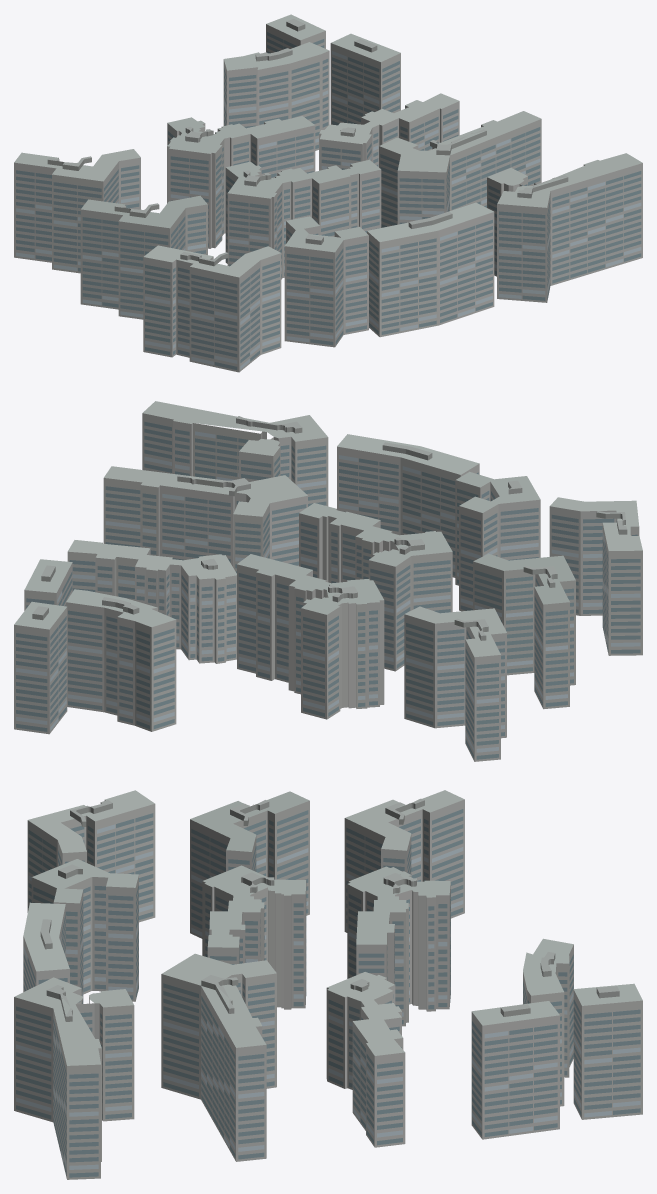
Rendered from apt-a12290901.glb.
3 views of the same model, one above another, from view 1: azimuth 30°, elevation 25°; view 2: azimuth 150°, elevation 25°; view 3: azimuth 270°, elevation 25° (orthographic). The views are drawn at different scales.
Visible parts, largest first — view 1: apt-a12290901; view 2: apt-a12290901; view 3: apt-a12290901.
Part boxes in pixels (x1,y1,x2,y2): apt-a12290901: (14, 14, 642, 372); apt-a12290901: (14, 401, 642, 761); apt-a12290901: (14, 790, 642, 1179).
Bounding box in the file's own units: 228 × 46 × 220.
